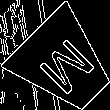M_SE: (31, 31, 99, 99)
